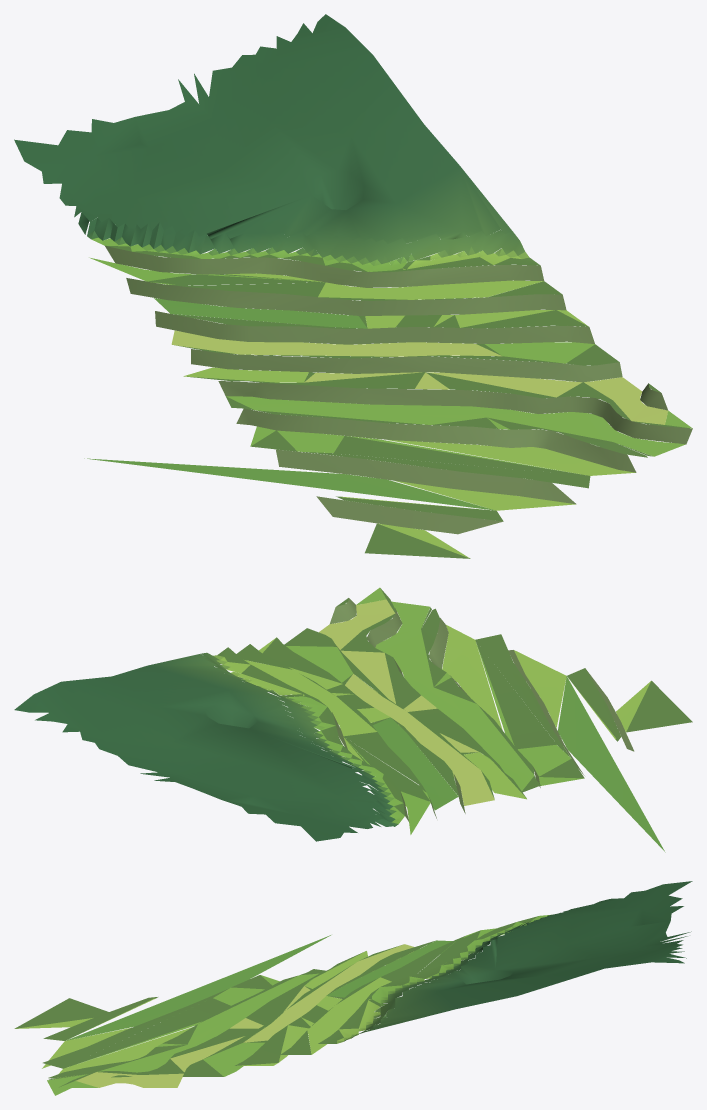
File: payo_land_xm5_y7_lod1.glb
3 views of the same model, one above another, from view 1: azimuth 30°, elevation 25°; view 2: azimuth 150°, elevation 25°; view 3: azimuth 270°, elevation 25° (orthographic). The views are drawn at different scales.
Visible parts, largest first — view 1: payo_land_xm5_y7; view 2: payo_land_xm5_y7; view 3: payo_land_xm5_y7.
Part boxes in pixels (x1,y1,x2,y2): payo_land_xm5_y7: [14, 14, 692, 558]; payo_land_xm5_y7: [14, 587, 692, 852]; payo_land_xm5_y7: [14, 881, 692, 1095].
Bounding box in the file's own units: 182 × 76.97 × 279.
